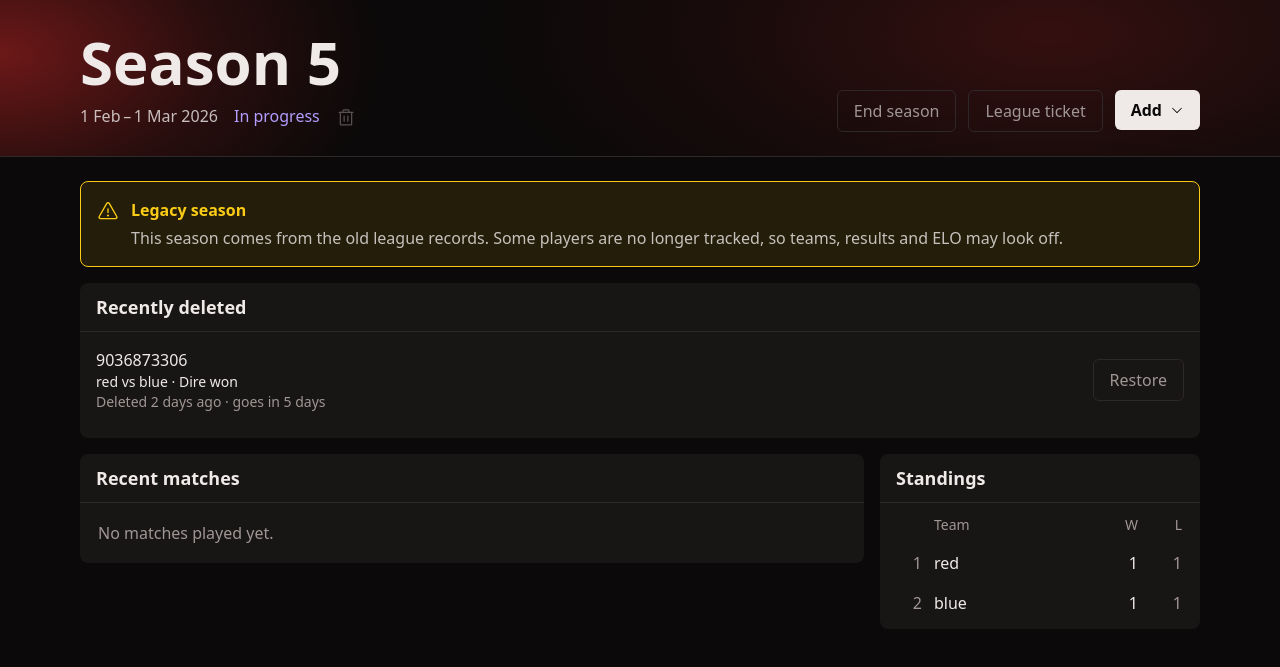
Test: says why a restore failed
Click the button "Restore".
click(1138, 380)  # box [1093,359,1184,401]
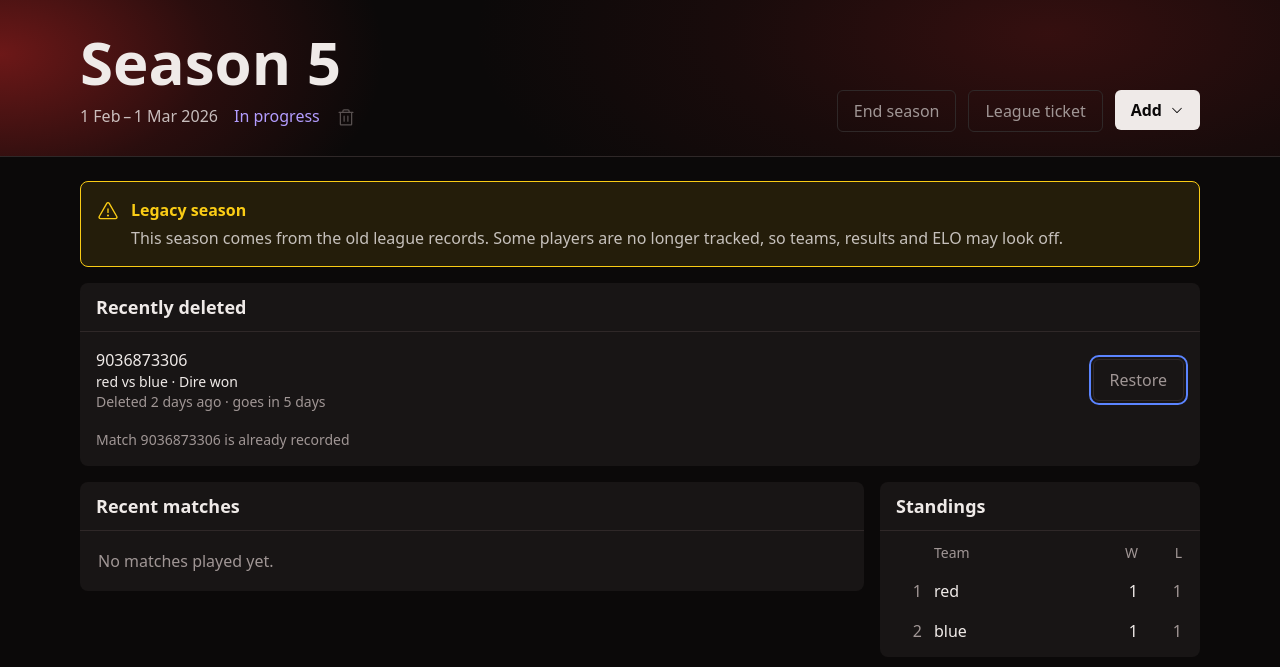
Result: the text "Match 9036873306 is already recorded" is shown at [96,430,350,449]
